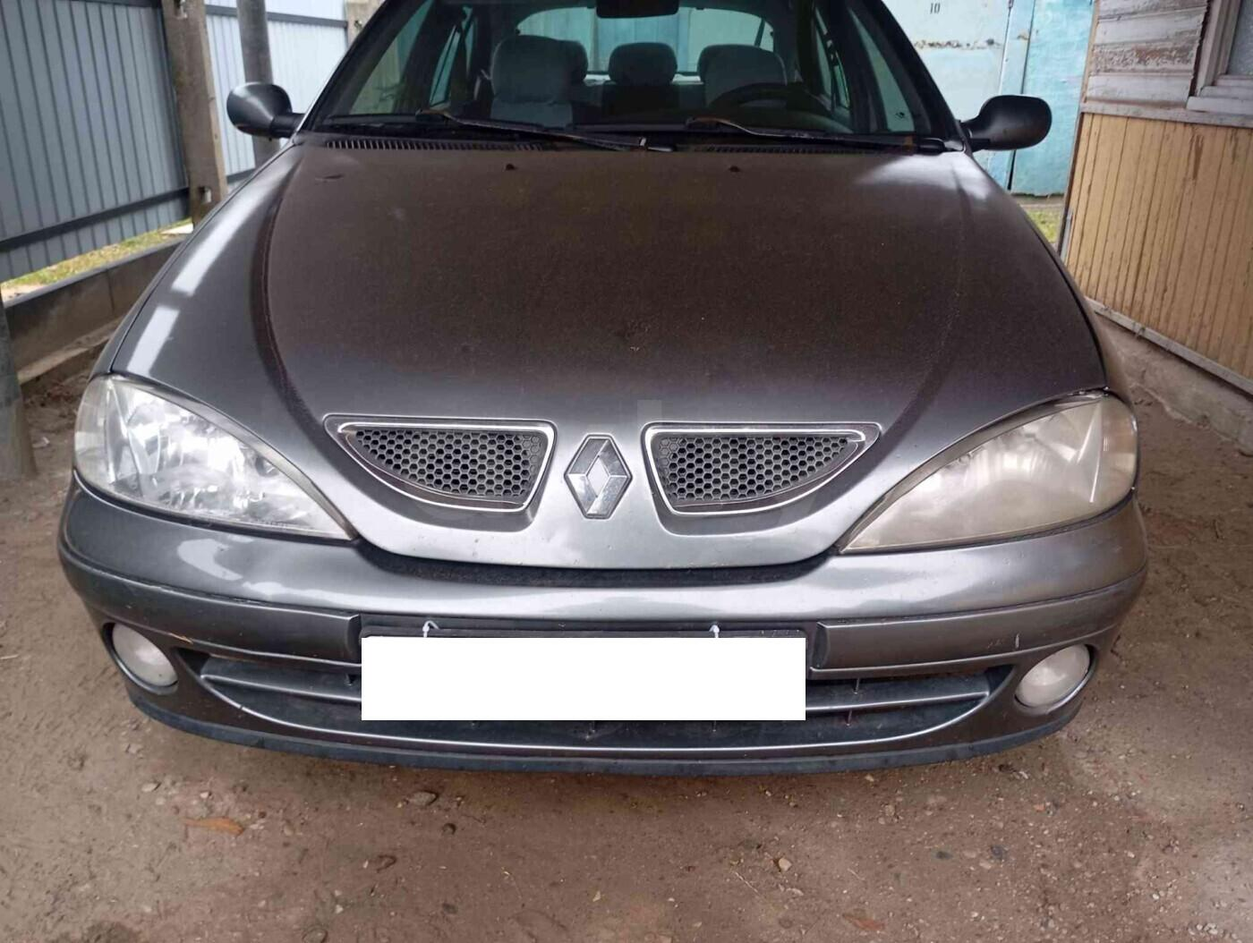Megane_1999-2003: (52, 0, 1152, 799)
